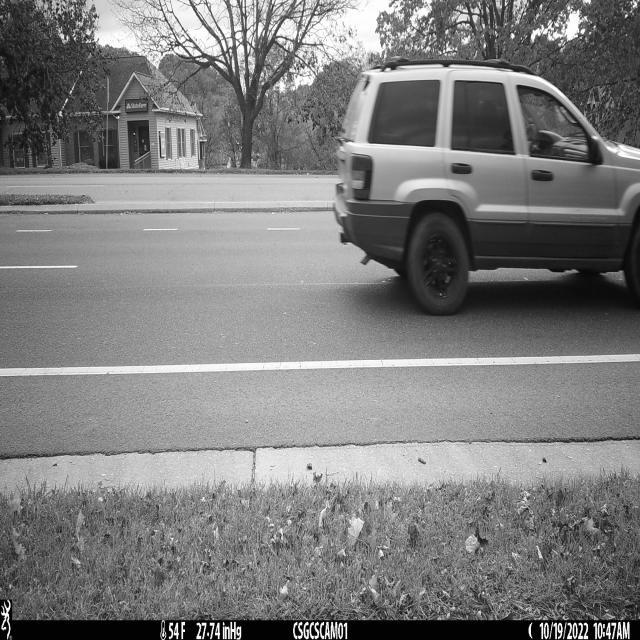SUV: (331, 59, 640, 317)
